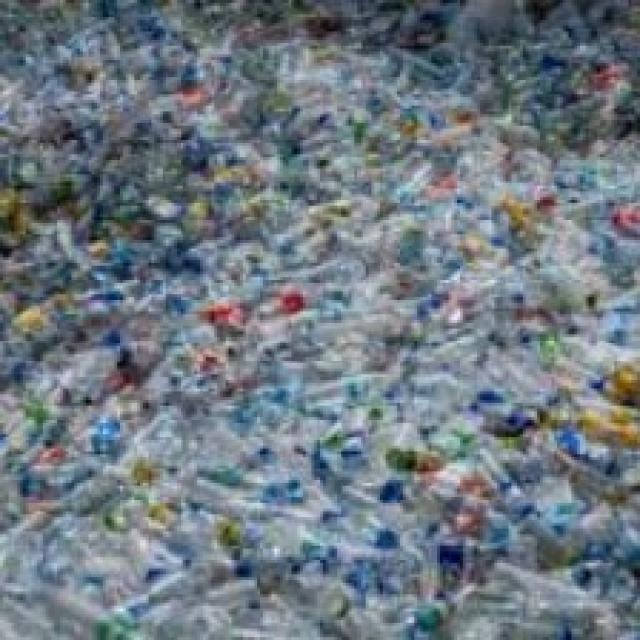heap: (41, 110, 604, 637)
plastic_bottle: (103, 561, 228, 614), (196, 444, 295, 508), (467, 450, 544, 520), (310, 303, 423, 346)
